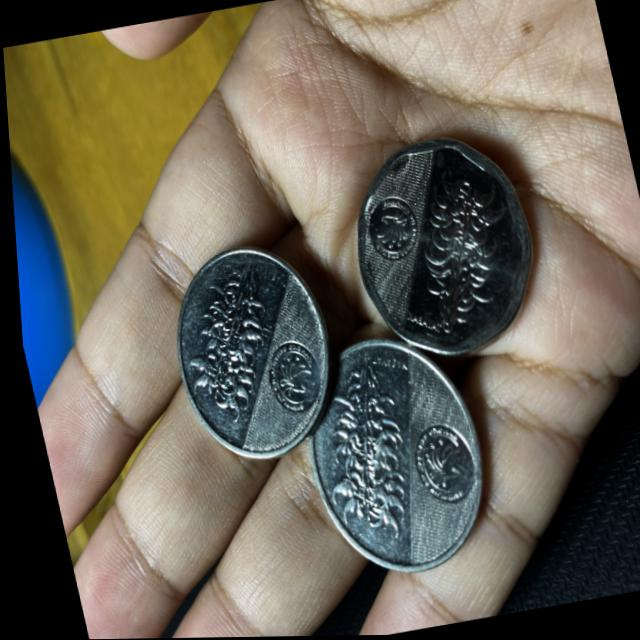5_New_Back: (296, 357, 428, 546), (399, 173, 520, 336), (169, 265, 291, 417)
